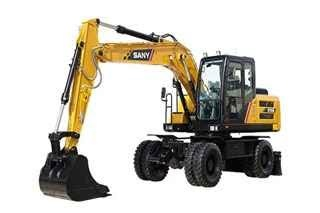excavator: (35, 16, 292, 203)
